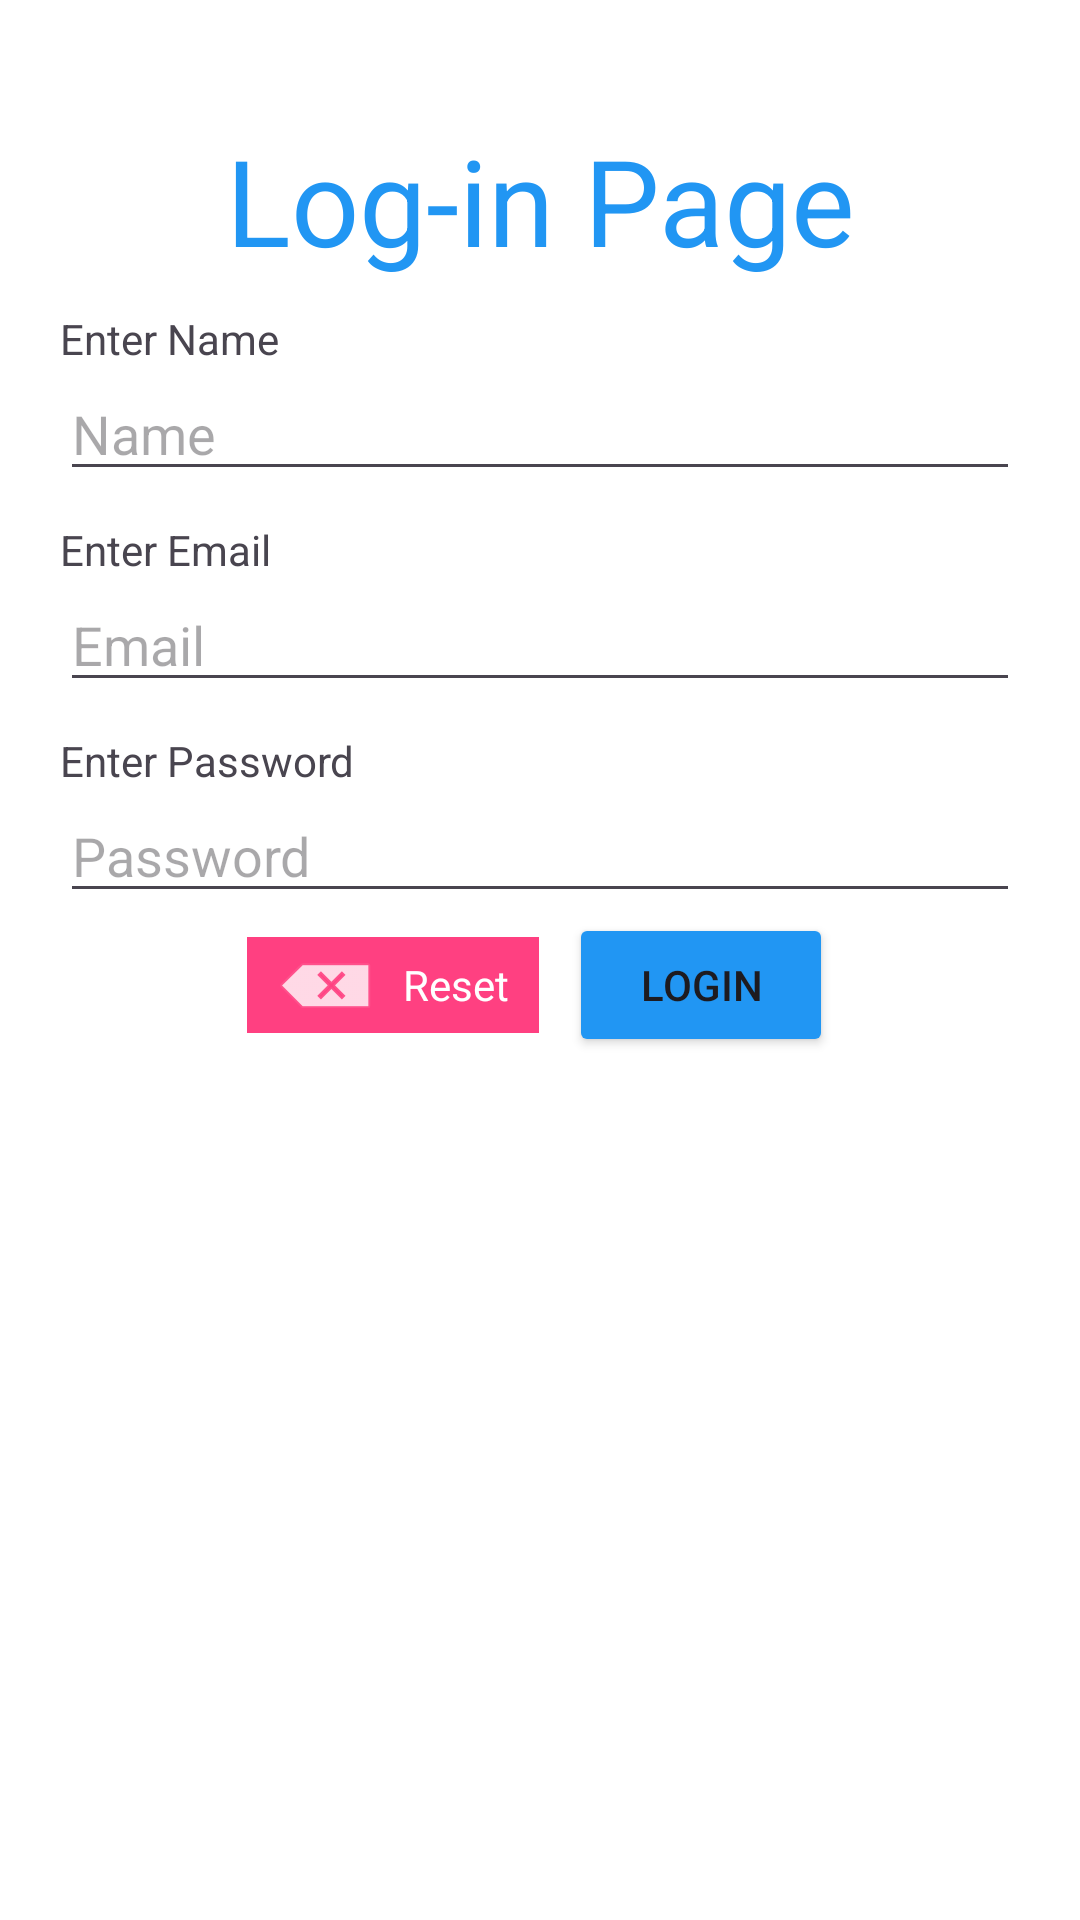

Named icons in this screenshot (1080 × 1920) and their centers, (x,y):
delete: (325,986)
